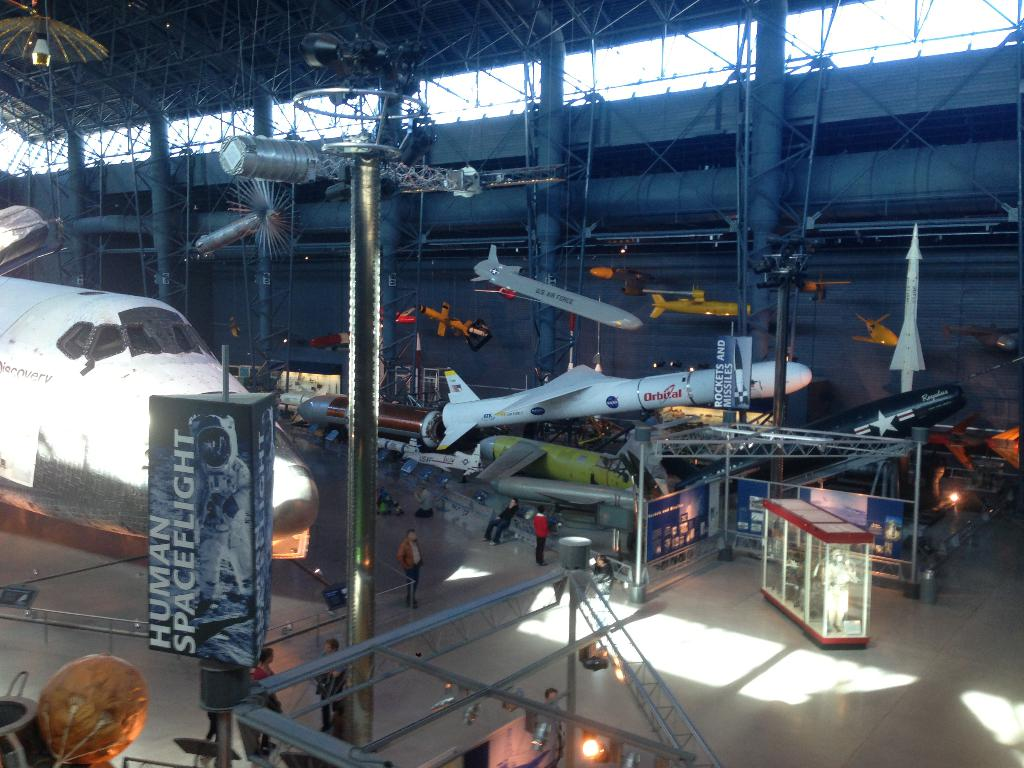Footwear: (481, 537, 493, 542), (489, 541, 499, 546)
